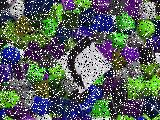Left: (57, 35, 111, 93)
